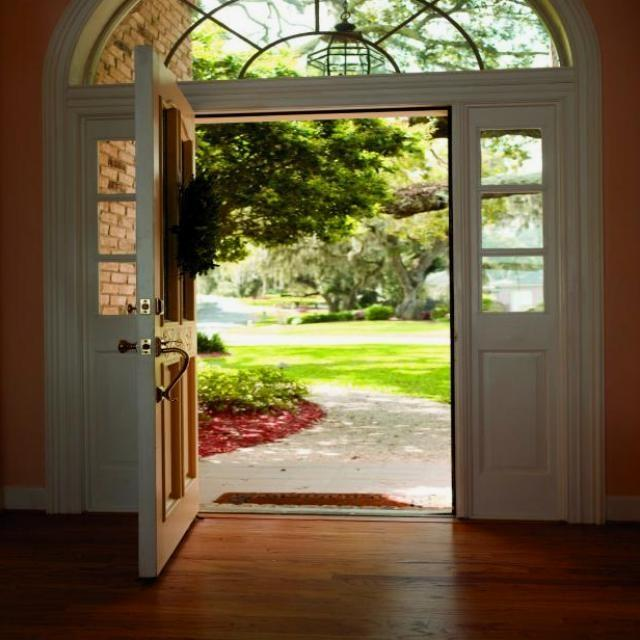door: (122, 31, 210, 590)
